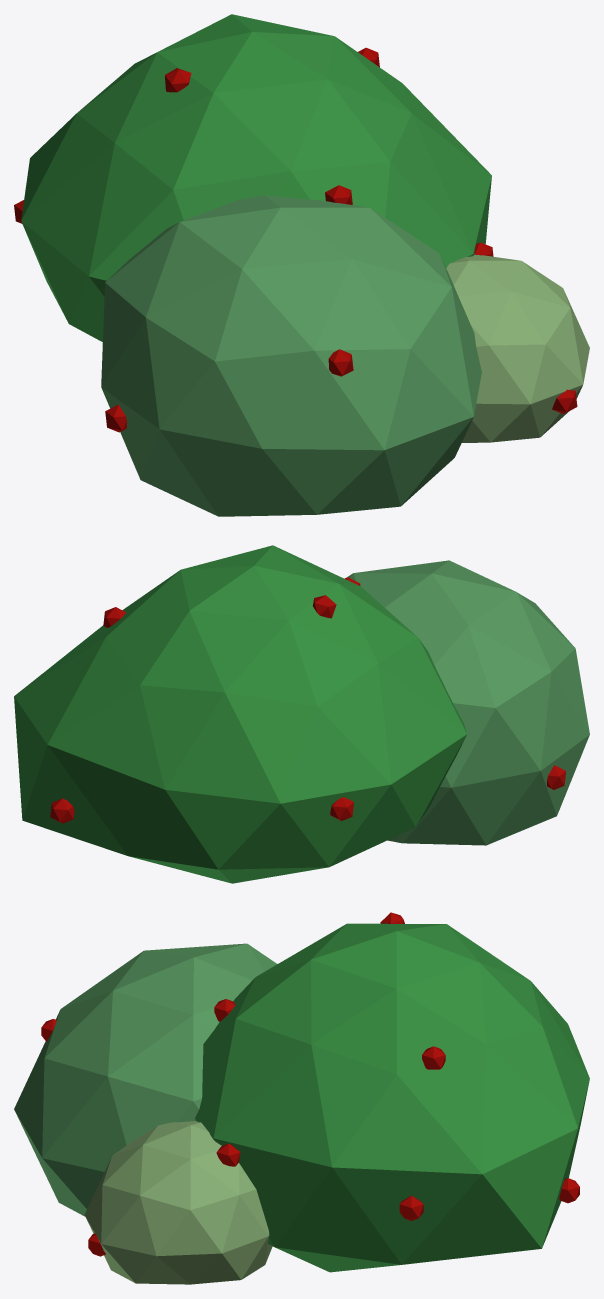
File: Bush1.fbx
The picture shows the model from 3 angles, top to bottom: view 1: azimuth 30°, elevation 25°; view 2: azimuth 150°, elevation 25°; view 3: azimuth 270°, elevation 25°; orthographic projection. The views are drawn at different scales.
Parts seen in each view (by area): view 1: Icosphere.001, Icosphere, Icosphere.002; view 2: Icosphere, Icosphere.001, Berrie.009; view 3: Icosphere, Icosphere.001, Icosphere.002.
Boxes of the visible parts, x1,y1,x2,y2 form: Icosphere.001: [101, 195, 481, 516]; Icosphere: [21, 14, 491, 342]; Icosphere.002: [446, 254, 589, 442]; Icosphere: [14, 545, 466, 883]; Icosphere.001: [347, 560, 589, 845]; Berrie.009: [50, 798, 74, 823]; Icosphere: [195, 923, 589, 1272]; Icosphere.001: [14, 943, 277, 1216]; Icosphere.002: [84, 1121, 272, 1284].
Size of the model in its own units: 298 by 207 by 357.
